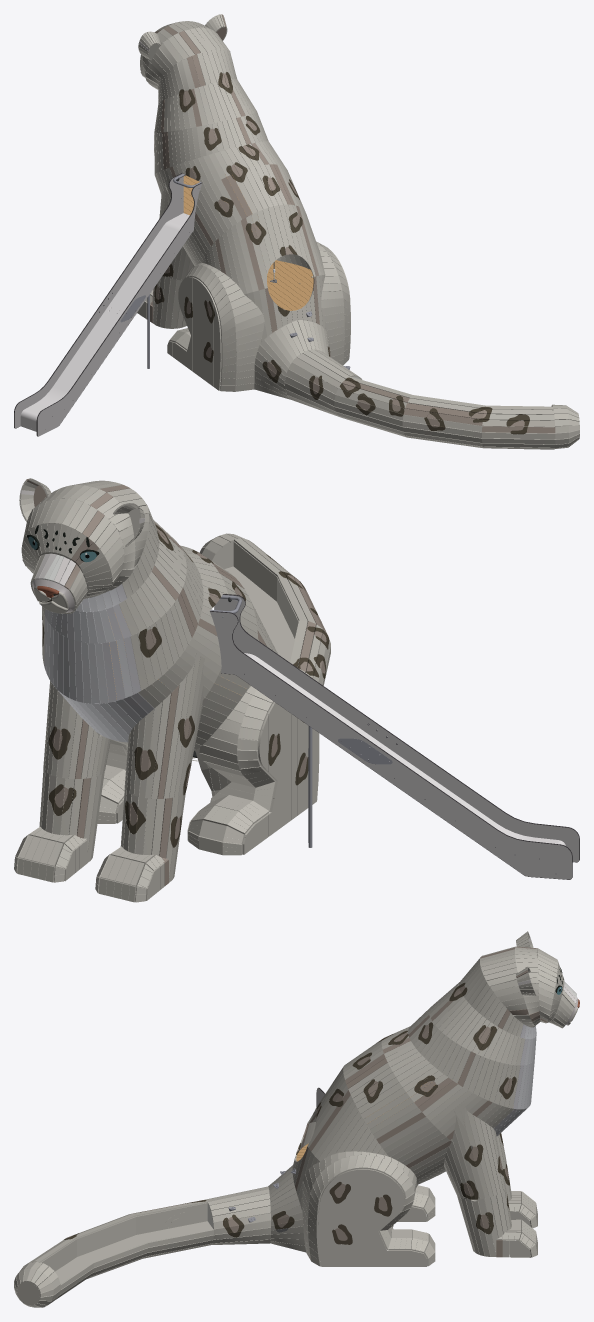
File: rgss-451-p-frost.glb
3 views of the same model, one above another, from view 1: azimuth 30°, elevation 25°; view 2: azimuth 150°, elevation 25°; view 3: azimuth 270°, elevation 25° (orthographic). The views are drawn at different scales.
Parts seen in each view (by area): view 1: 1 Solid; view 2: 1 Solid; view 3: 1 Solid.
Part boxes in pixels (x1,y1,x2,y2): 1 Solid: (14,14,579,449); 1 Solid: (14,478,579,902); 1 Solid: (14,931,579,1307).
Bounding box in the file's own units: 7.19 × 4.62 × 8.31.
Materials: 1 (1 with a texture image).
